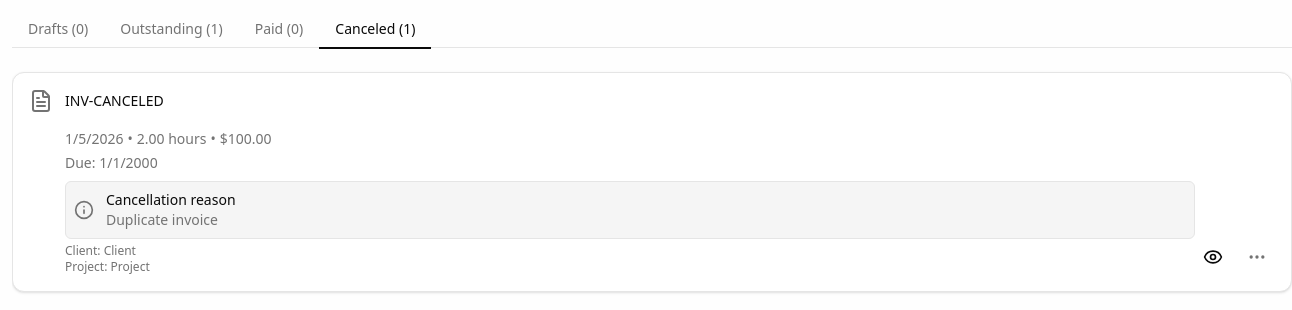
Test: InvoicesList › shows canceled invoices only in the explicitly selected Canceled tab
expect the tab "Canceled (1)" is shown: met, box 319,11 -> 432,49
expect the heading "INV-CANCELED" is shown: met, box 65,91 -> 164,111
Click the tab "Outstanding (1)".
click(171, 30)  # box 104,11 -> 239,49
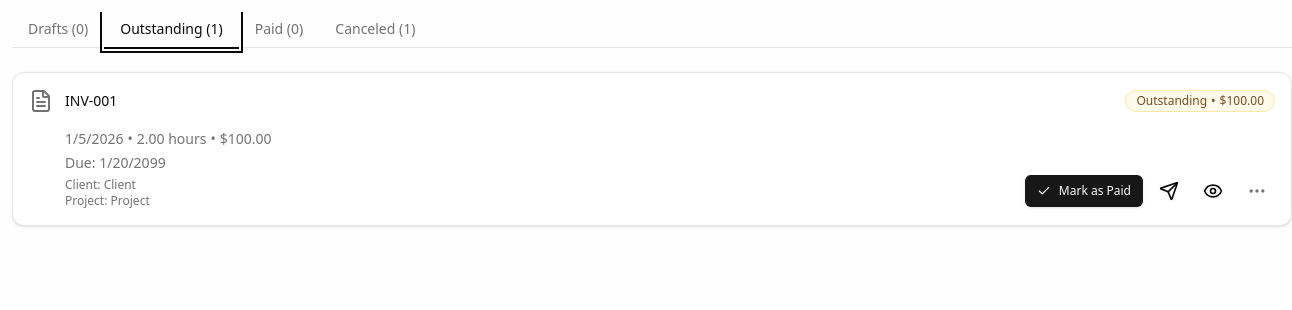
expect the heading "INV-001" is shown: met, box 65,91 -> 117,111
expect the heading "INV-CANCELED" is gone: met
